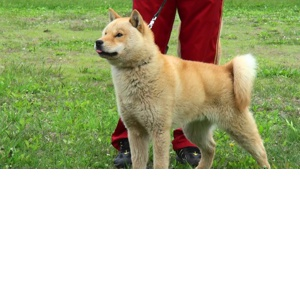cat: (49, 17, 274, 287)
